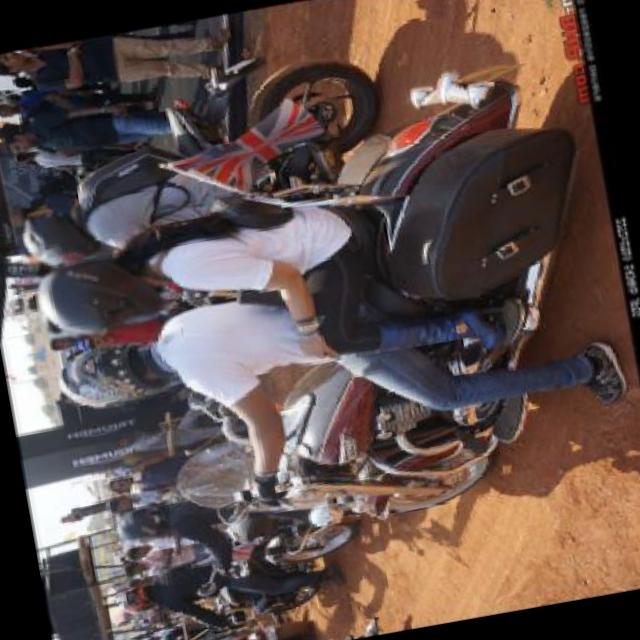With Helmet: (29, 245, 174, 346), (54, 334, 175, 416), (14, 202, 109, 278), (114, 501, 170, 545), (116, 580, 165, 620)
